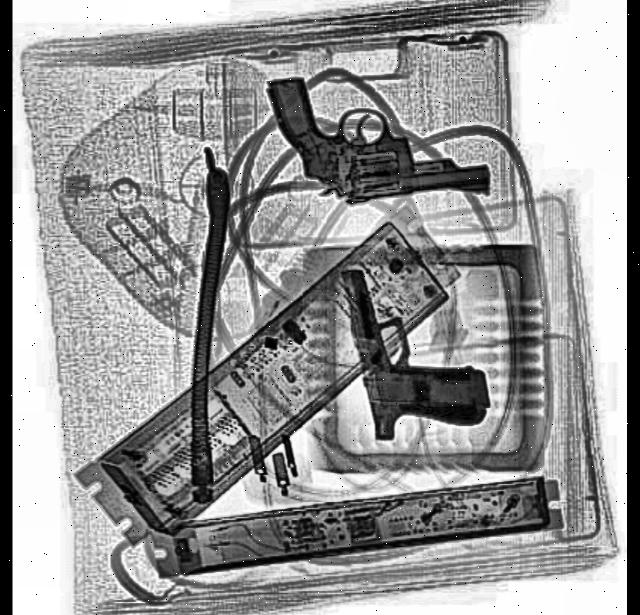Gun: (266, 63, 487, 211), (337, 244, 492, 452)
